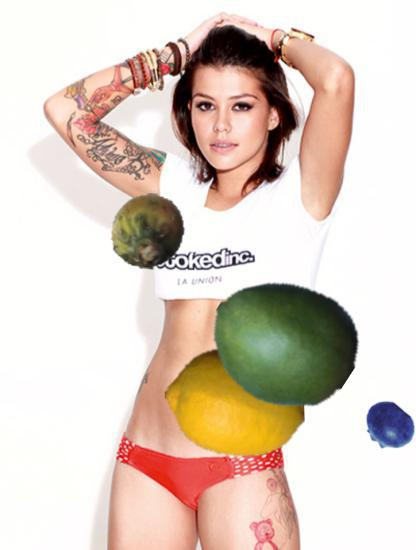Cactus: (109, 193, 186, 270)
Huckleberry: (363, 400, 416, 453)
Lemon: (165, 333, 304, 472)
Mango: (210, 267, 359, 416)
